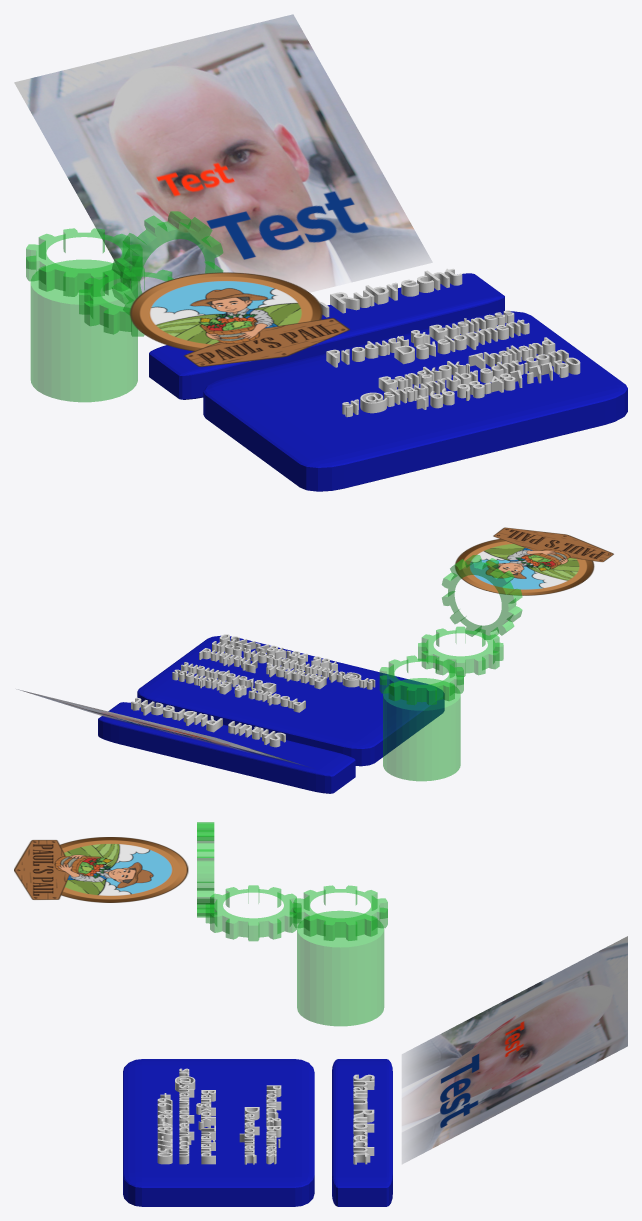
The model's file is Gears7.gltf.
3 views of the same model, one above another, from view 1: azimuth 30°, elevation 25°; view 2: azimuth 150°, elevation 25°; view 3: azimuth 270°, elevation 25° (orthographic). The views are drawn at different scales.
Visible parts, largest first — view 1: ShaunFace, Roundcube.001, PPlogo, Cylinder, text.001, Roundcube, Gear.001, Gear, Gear.002, text.002; view 2: Roundcube.001, Roundcube, PPlogo, Cylinder, text.001, Gear, Gear.002, Gear.001, text.002, ShaunFace; view 3: ShaunFace, Roundcube.001, PPlogo, Cylinder, Roundcube, text.001, Gear.001, Gear.002, Gear, text.002.
Part boxes in pixels (x1,y1,x2,y2): ShaunFace: (14,14,431,296); Roundcube.001: (203,311,627,491); PPlogo: (130,272,349,366); Cylinder: (30,259,137,402); text.001: (326,310,580,417); Roundcube: (149,273,504,399); Gear.001: (26,228,142,296); Gear: (111,211,223,315); Gear.002: (79,267,173,336); text.002: (319,268,462,317); Roundcube.001: (137,635,444,766); Roundcube: (98,702,355,793); PPlogo: (455,527,613,595); Cylinder: (383,678,460,781); text.001: (172,634,375,712); Gear: (442,555,522,639); Gear.002: (418,626,503,676); Gear.001: (379,655,463,705); text.002: (131,697,285,747); ShaunFace: (16,689,307,766); ShaunFace: (402,936,627,1163); Roundcube.001: (123,1059,314,1206); PPlogo: (14,837,188,902); Cylinder: (297,910,384,1026); Roundcube: (332,1059,392,1206); text.001: (157,1068,281,1164); Gear.001: (293,885,387,940); Gear.002: (205,885,301,941); Gear: (197,822,214,917); text.002: (353,1074,374,1164).
Bounding box in the file's own units: 10.79 × 5.49 × 14.1.
Materials: 5 (2 with a texture image).
